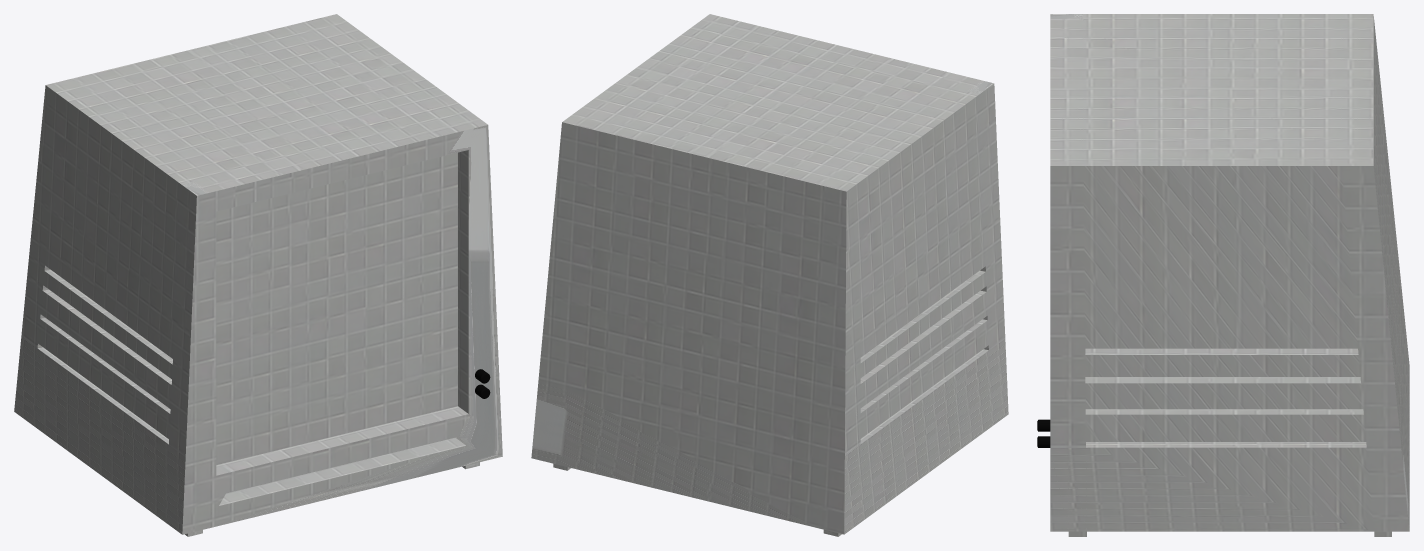
The model's file is messageterminalV2.glb.
3 renders of one model, left to right at view 1: azimuth 30°, elevation 25°; view 2: azimuth 150°, elevation 25°; view 3: azimuth 270°, elevation 25°, orthographic. The views are drawn at different scales.
Visible parts, largest first — view 1: Cube; view 2: Cube; view 3: Cube.
Part boxes in pixels (x1=…): Cube: x1=14, y1=14, x2=502, y2=536; Cube: x1=531, y1=14, x2=1008, y2=536; Cube: x1=1050, y1=14, x2=1409, y2=536.
Size of the model in its own units: 2.2 by 2.28 by 2.07.
2 materials, 2 textured.
